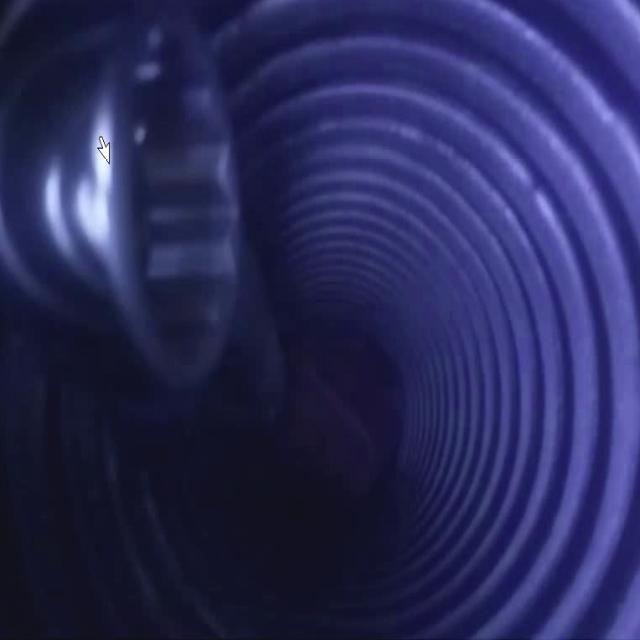metal piece: (0, 6, 242, 393)
